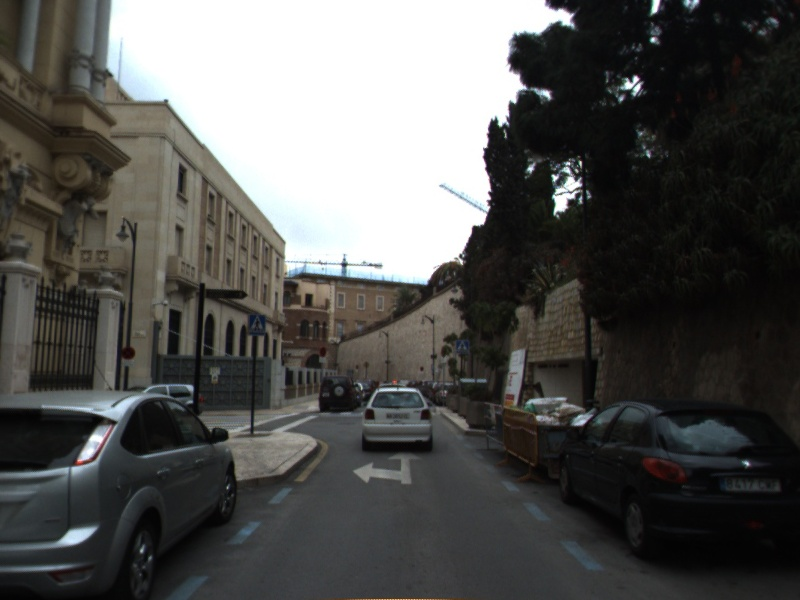STRAIGHT_LEFT: (351, 450, 425, 486)
